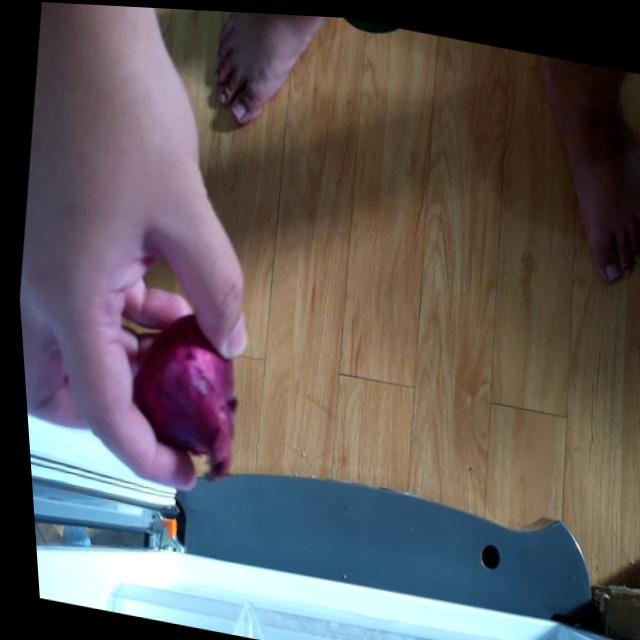onion: (111, 298, 243, 476)
